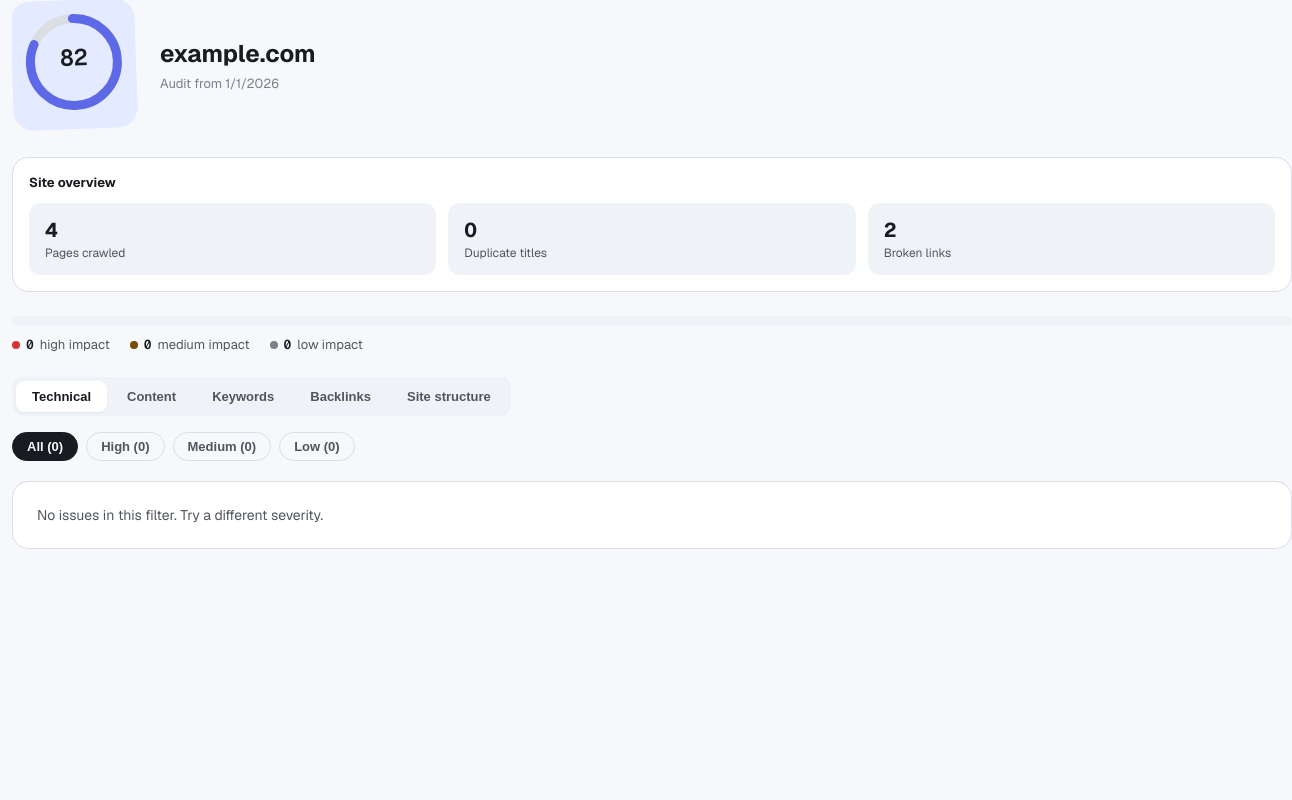
Test: ReportBody — site structure tab › shows orphan pages and broken internal links when the "Site structure" tab is selected
Click the button "Site structure". click: coordinates (449, 396)
box: top-left (391, 381), bottom-right (507, 412)
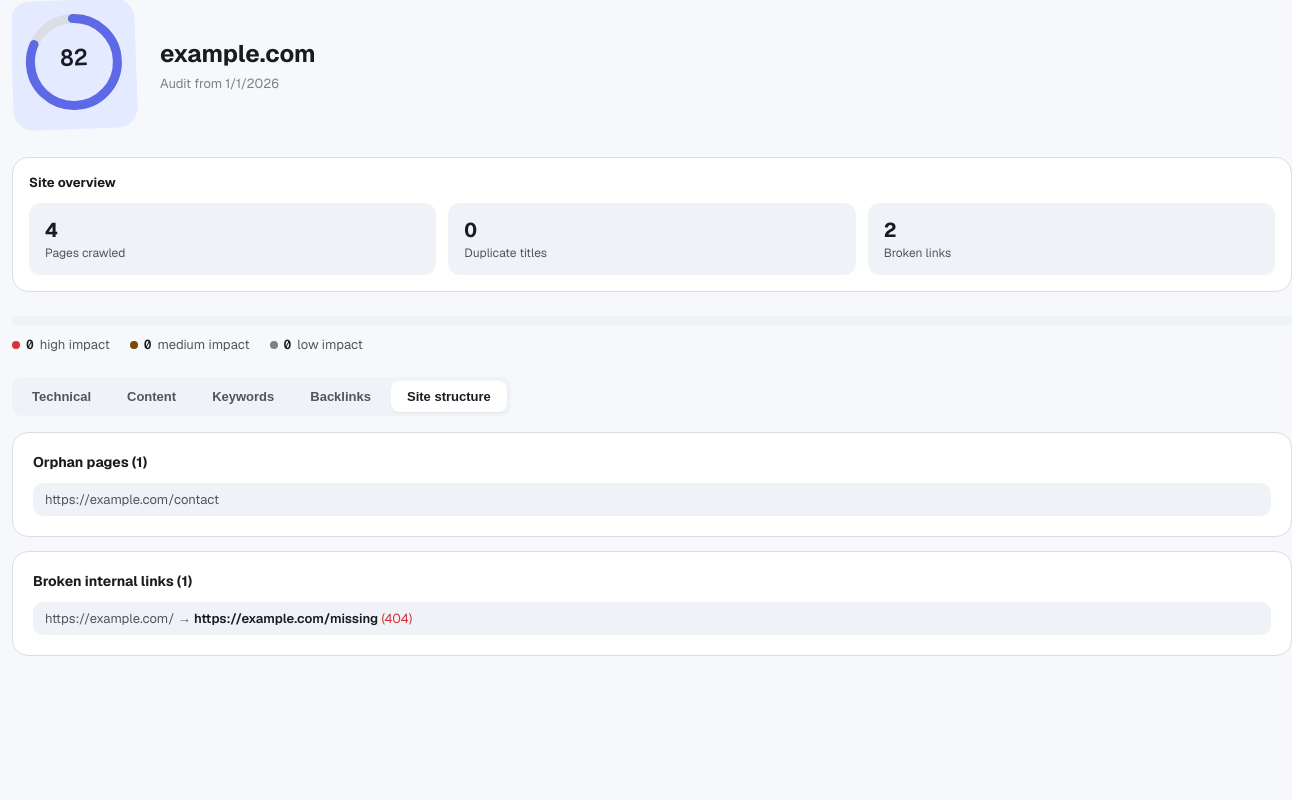
Expected: the list item "https://example.com/contact" is shown, top-left (33, 483), bottom-right (1271, 516)
Expected: the text "https://example.com/" is shown, top-left (45, 610), bottom-right (174, 627)
Expected: the text "https://example.com/missing" is shown, top-left (194, 610), bottom-right (378, 627)
